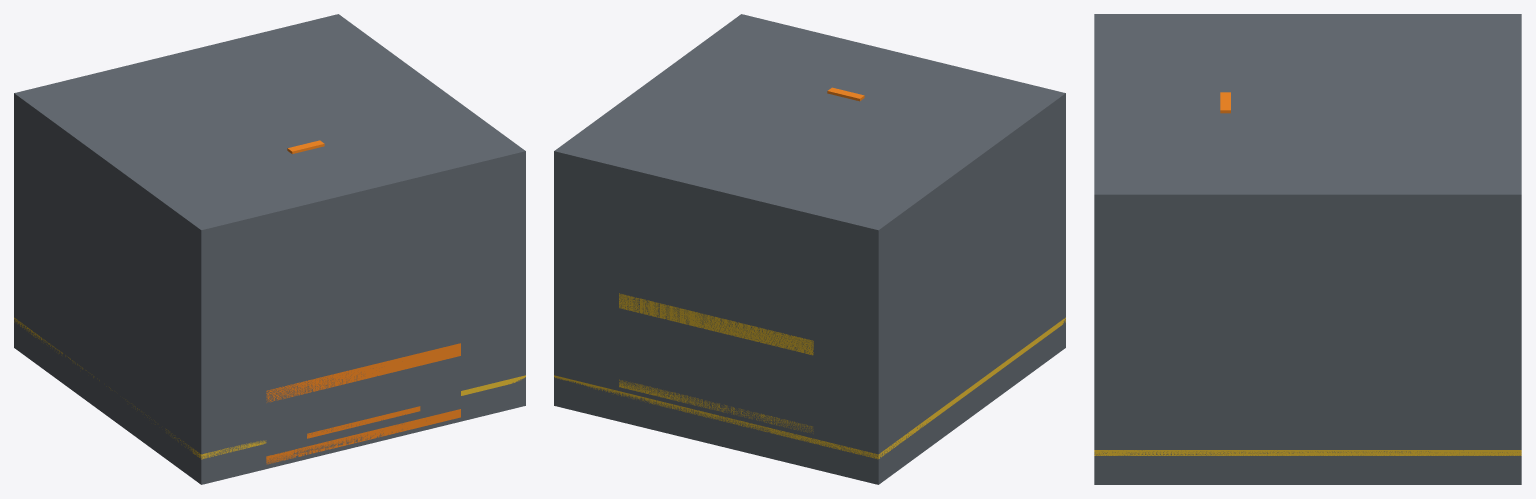
3 views of the same model, side by side, from view 1: azimuth 30°, elevation 25°; view 2: azimuth 150°, elevation 25°; view 3: azimuth 270°, elevation 25° (orthographic). The views are drawn at different scales.
Visible parts, largest first — view 1: col_Box, Box_LOD0; view 2: col_Box, Box_LOD0; view 3: col_Box, Box_LOD0.
Part boxes in pixels (x1,y1,x2,y2): col_Box: (14,14,525,484); Box_LOD0: (14,26,525,484); col_Box: (554,14,1065,484); Box_LOD0: (554,26,1065,484); col_Box: (1094,14,1521,484); Box_LOD0: (1094,24,1521,484).
Size of what is drawn, in the model's own units: 4 by 3.03 by 4.
